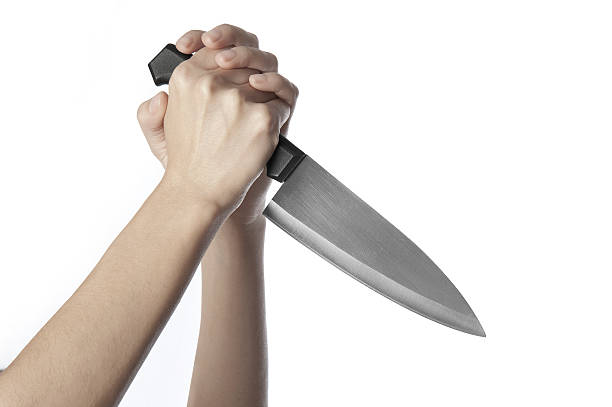knife: (146, 41, 490, 339)
